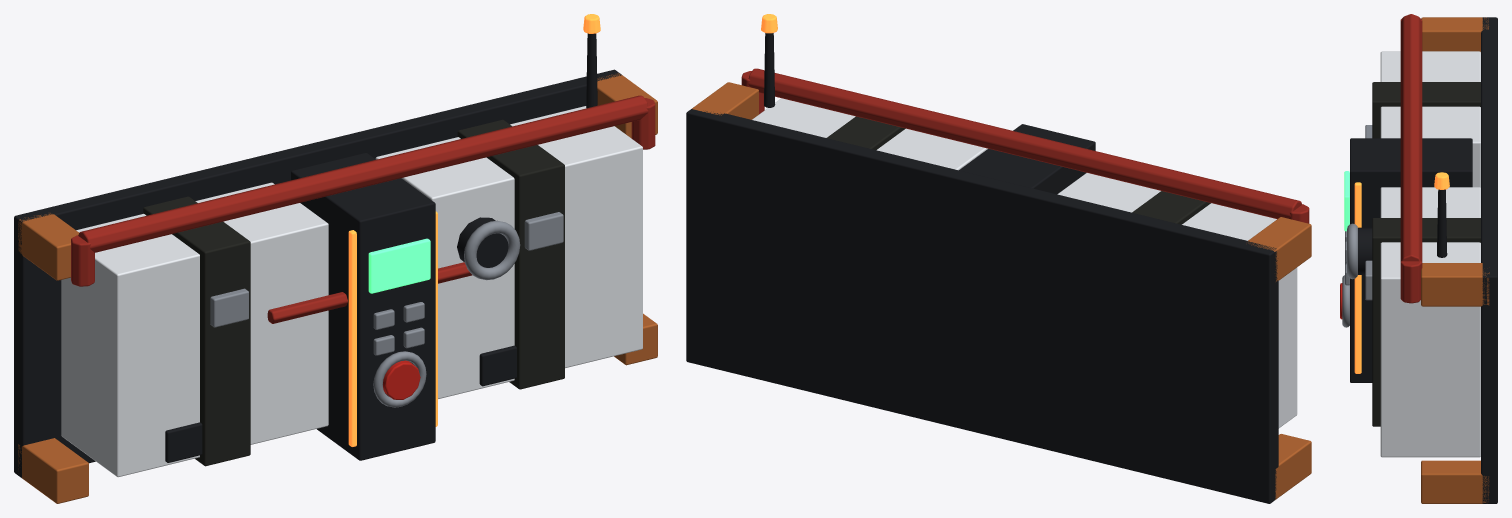
File: weapon_c4_charge_lvl2.glb
The picture shows the model from 3 angles, left to right: view 1: azimuth 30°, elevation 25°; view 2: azimuth 150°, elevation 25°; view 3: azimuth 270°, elevation 25°; orthographic projection. The views are drawn at different scales.
Parts seen in each view (by area): view 1: c4_charge_lvl2; view 2: c4_charge_lvl2; view 3: c4_charge_lvl2.
Part boxes in pixels (x1,y1,x2,y2): c4_charge_lvl2: (14, 14, 657, 503); c4_charge_lvl2: (686, 14, 1311, 503); c4_charge_lvl2: (1340, 14, 1497, 503).
Size of the model in its own units: 0.44 by 0.242 by 0.113.
